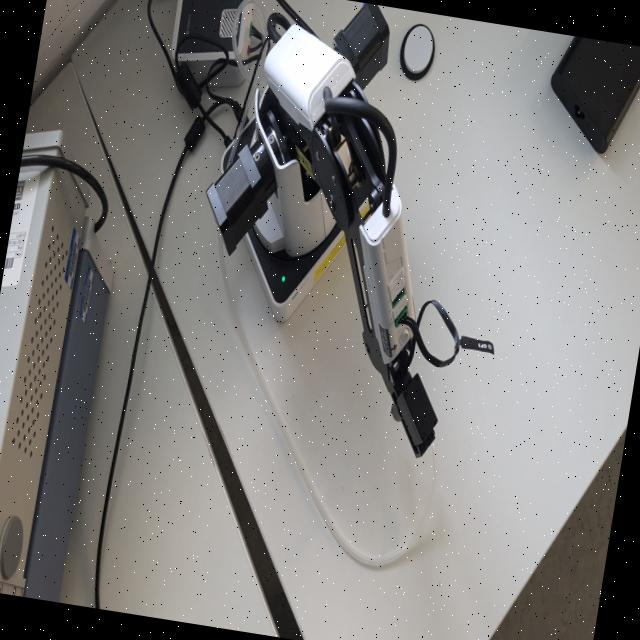Robot-end-effector-HF8z: (379, 366, 449, 464)
